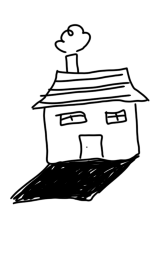closed_window: (53, 107, 89, 129), (98, 105, 133, 126)
door: (75, 131, 108, 162)
roof: (28, 65, 150, 112)
shadow: (5, 156, 135, 205)
smoking_chimney: (49, 20, 94, 73)
wall: (40, 98, 146, 170)
